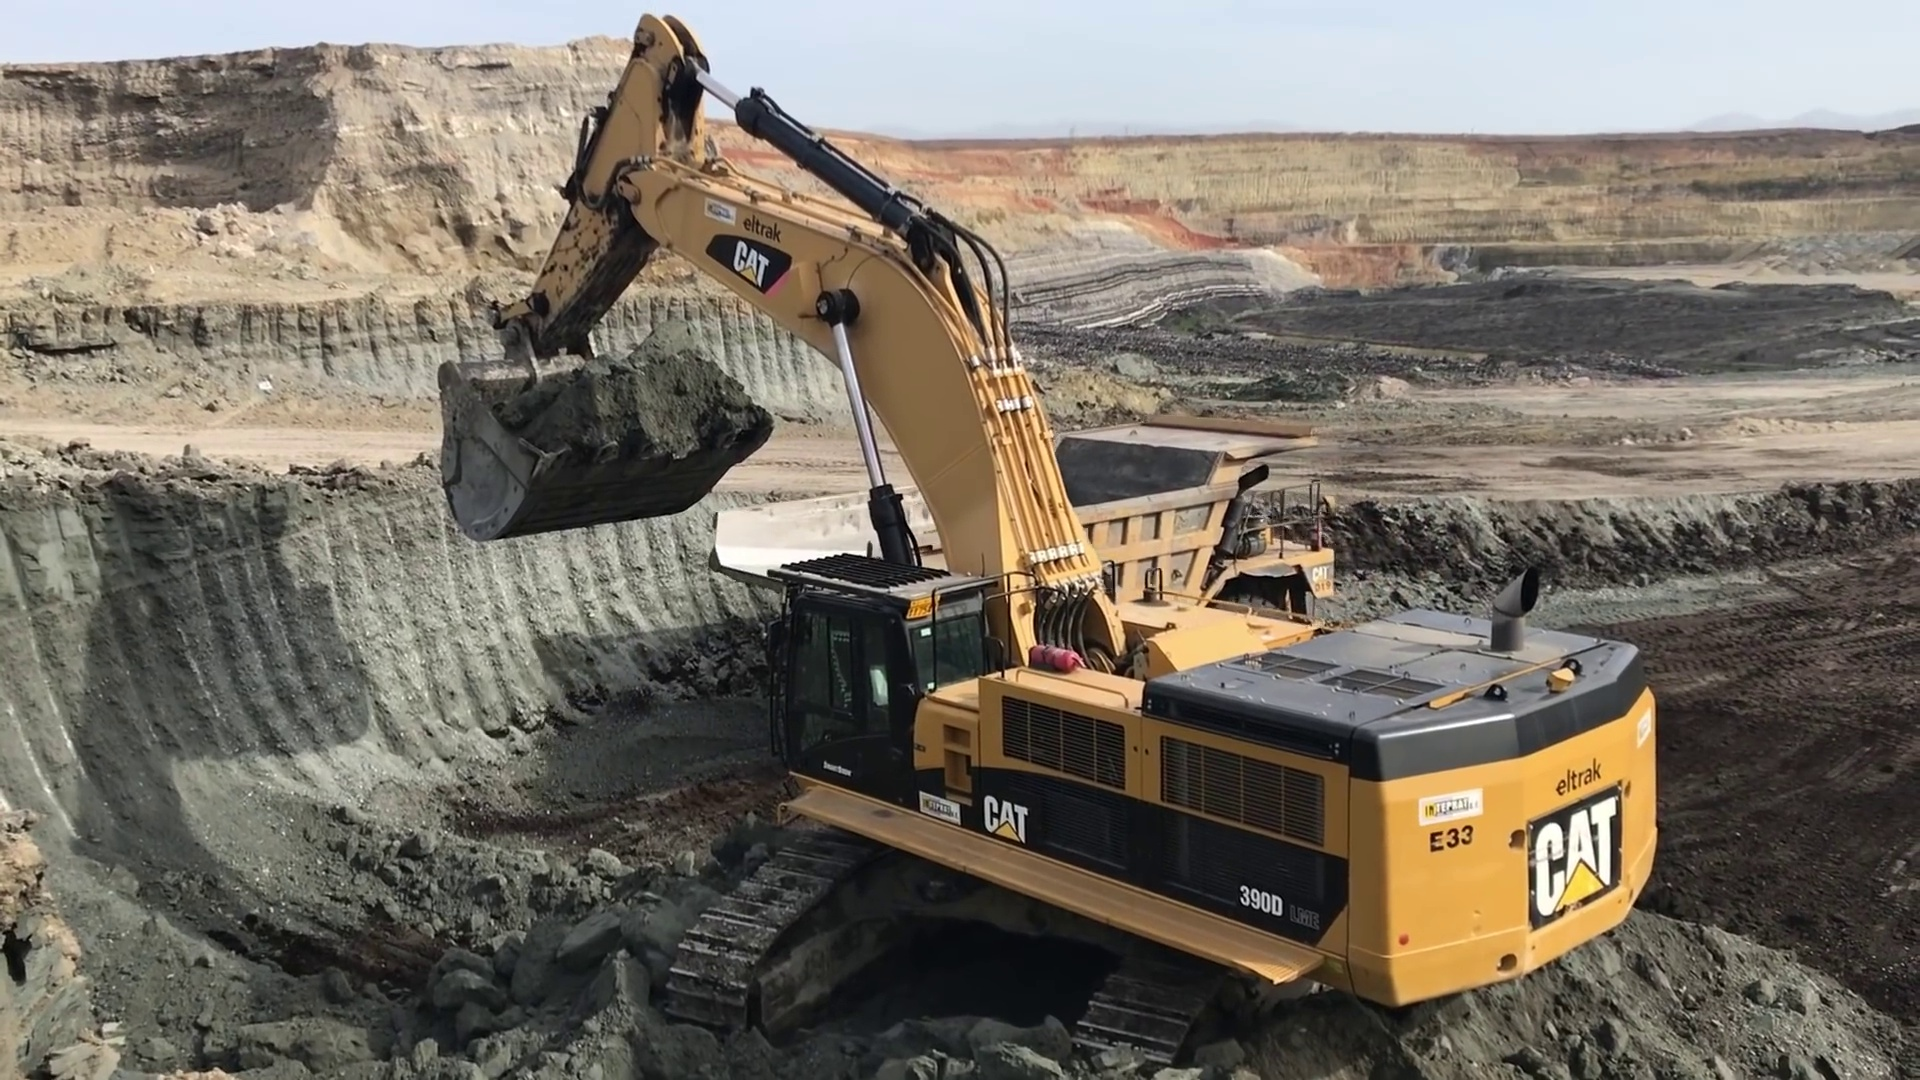dumper: (705, 414, 1342, 750)
excavator: (435, 3, 1662, 1054)
